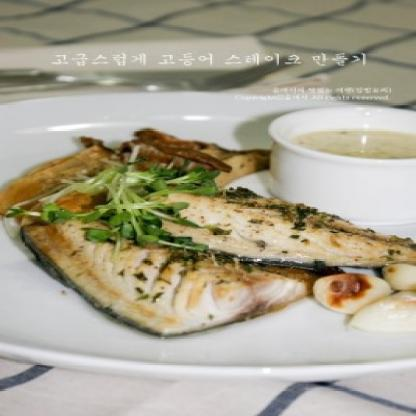Peixe: (0, 184, 414, 352), (13, 129, 278, 348)
